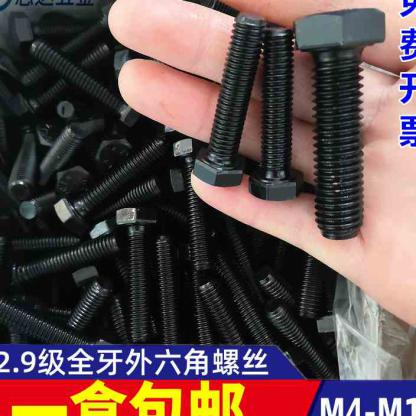FOD: (294, 6, 387, 240), (191, 14, 265, 189), (250, 25, 306, 204)
